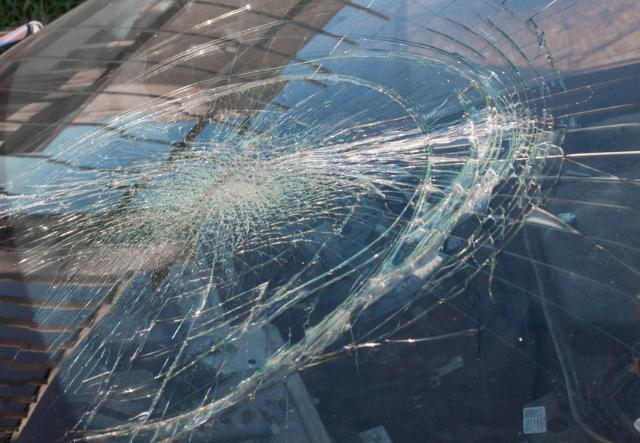Windshield: (4, 0, 635, 439)
